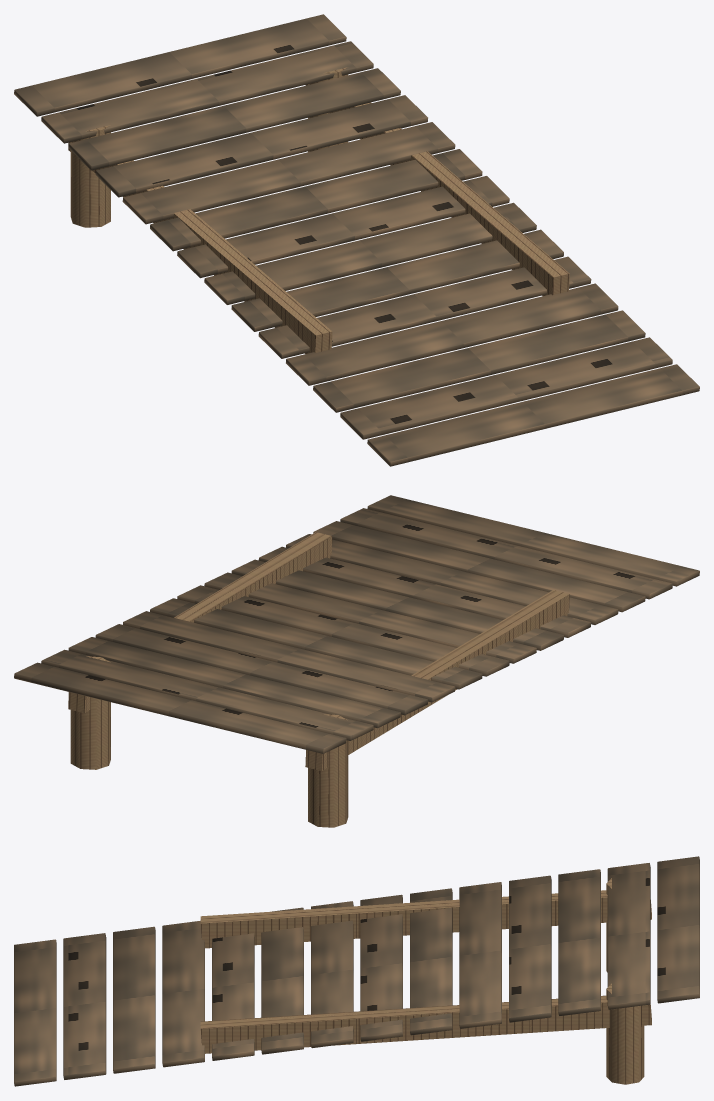
The model's file is DockRamp.fbx.
3 renders of one model, top to bottom at view 1: azimuth 30°, elevation 25°; view 2: azimuth 150°, elevation 25°; view 3: azimuth 270°, elevation 25°, orthographic. The views are drawn at different scales.
Parts seen in each view (by area): view 1: LOD0; view 2: LOD0; view 3: LOD0.
Boxes of the visible parts, left/top/right/bottom form: LOD0: left=14, top=14, right=699, bottom=466; LOD0: left=14, top=495, right=699, bottom=827; LOD0: left=14, top=856, right=699, bottom=1086.
Size of what is drawn, in the model's own units: 188 by 63.14 by 396.
